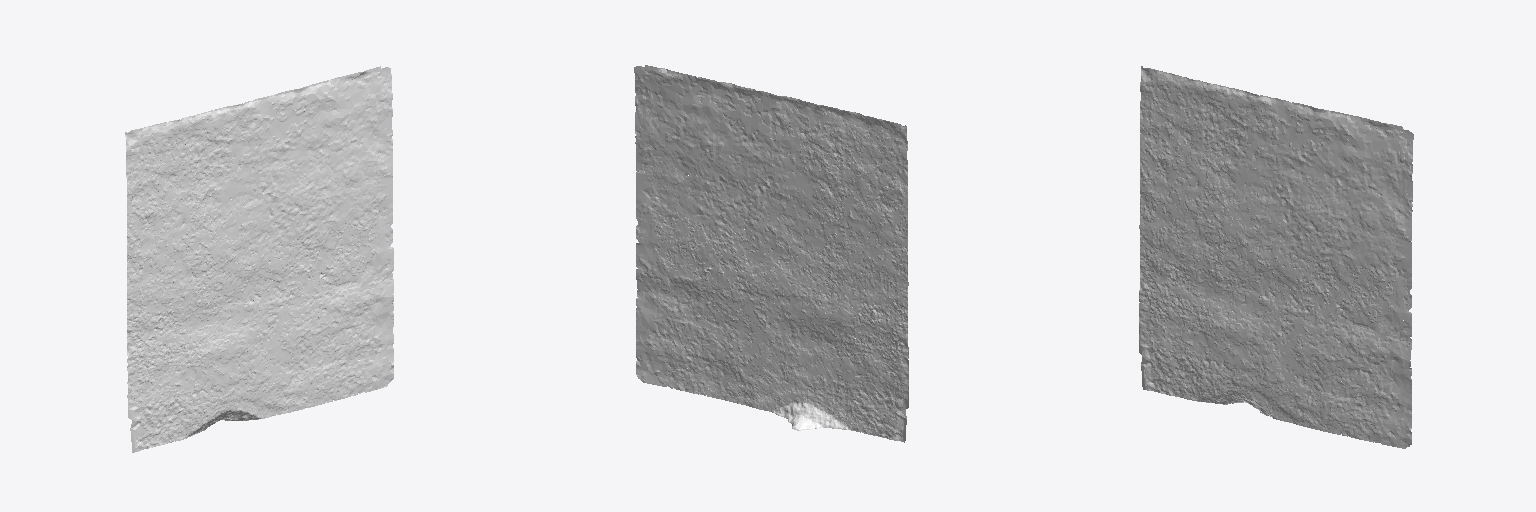
The model's file is Llancarfan1.obj.
3 views of the same model, side by side, from view 1: azimuth 30°, elevation 25°; view 2: azimuth 150°, elevation 25°; view 3: azimuth 330°, elevation 25° (orthographic).
Bounding box in the file's own units: 1.59 × 1.81 × 0.1493.